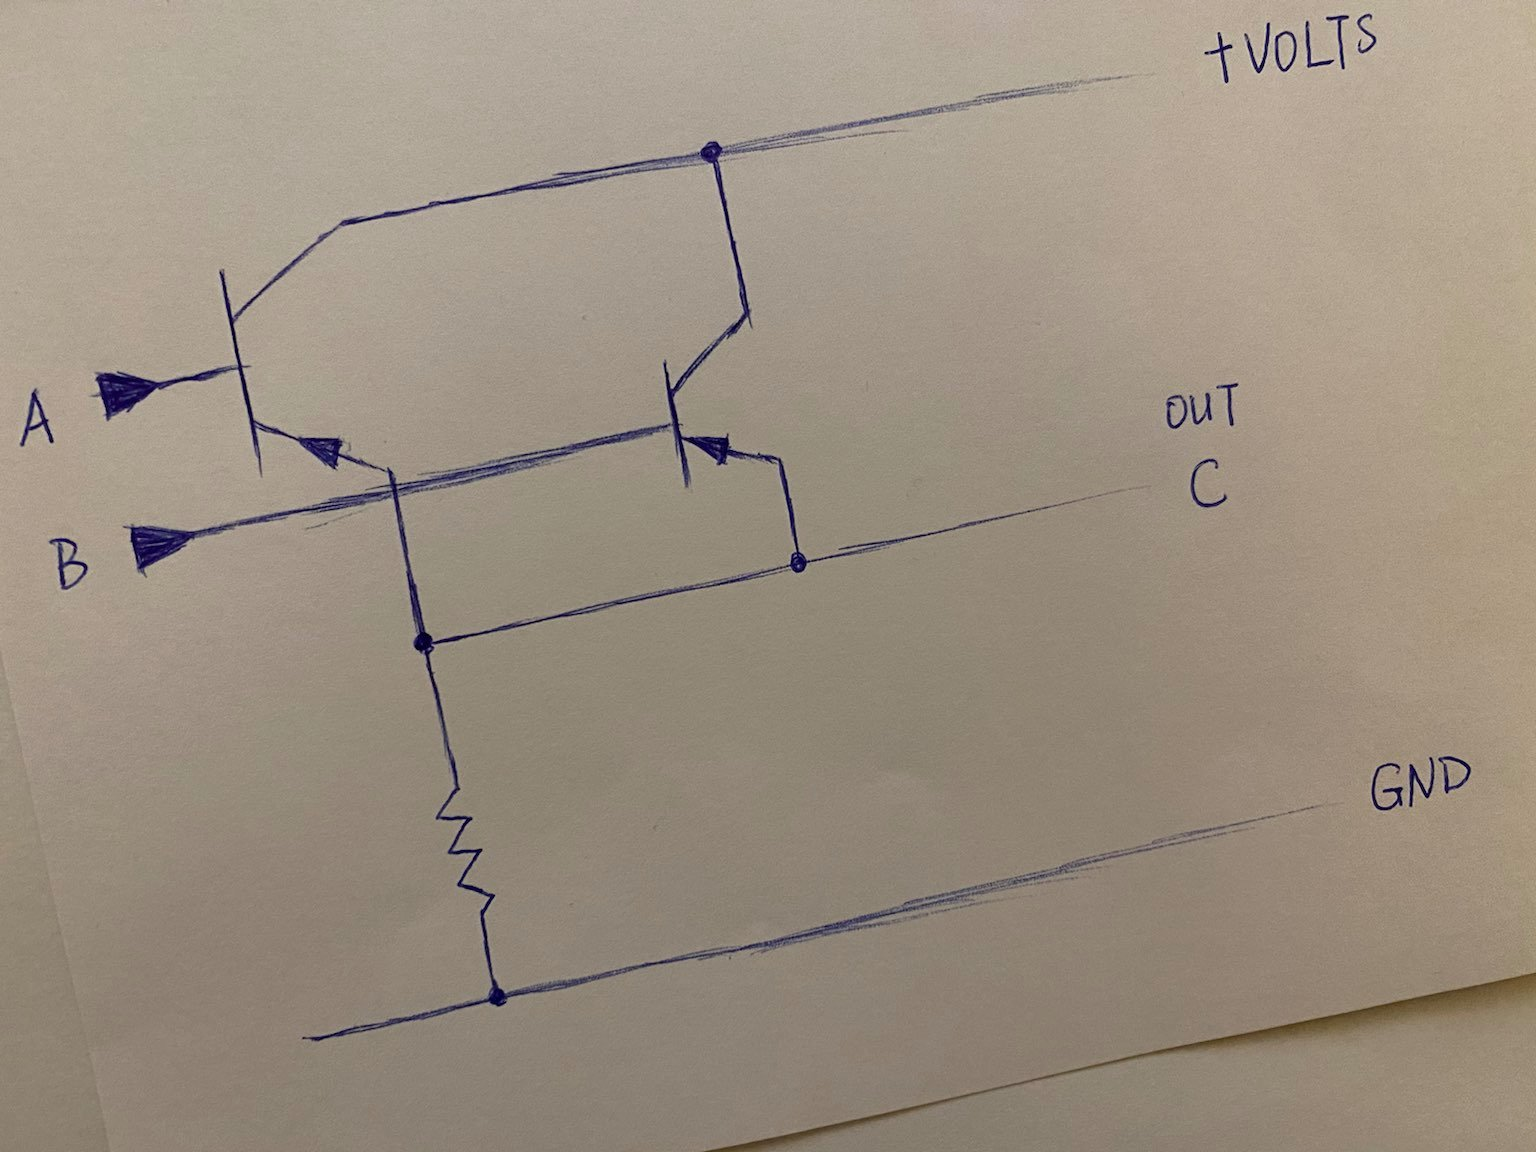crossover: (371, 469, 417, 510)
junction: (684, 125, 739, 181), (772, 537, 828, 590), (398, 619, 449, 666), (482, 979, 510, 1010)
resistor: (428, 778, 503, 928)
terminal: (1051, 54, 1175, 107), (119, 515, 234, 572), (84, 362, 186, 424), (1263, 778, 1363, 834), (1087, 456, 1173, 510), (281, 1012, 373, 1055)
text: (1242, 10, 1391, 76), (1367, 748, 1472, 813), (1162, 381, 1247, 435), (11, 385, 68, 457), (1186, 454, 1237, 520), (47, 531, 94, 599), (1199, 27, 1238, 92)
transistor: (208, 201, 403, 476), (654, 300, 802, 490)
